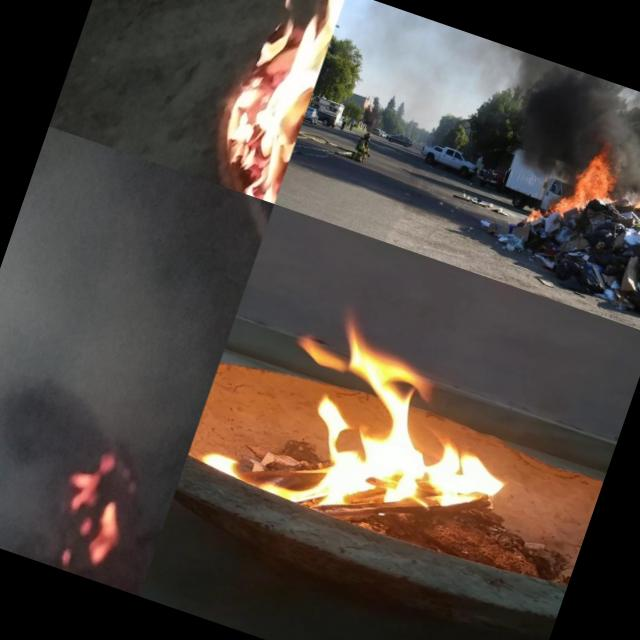fire: (202, 266, 534, 562), (199, 0, 347, 203), (42, 429, 159, 586), (552, 149, 618, 228), (620, 189, 640, 246), (520, 203, 544, 230)
smoke: (0, 126, 174, 562), (86, 242, 242, 462), (356, 0, 541, 98), (113, 455, 185, 596), (544, 57, 608, 204), (500, 128, 594, 198)
